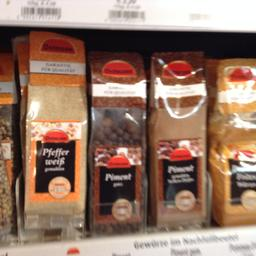spices: (22, 30, 88, 231), (148, 48, 210, 227), (88, 48, 147, 231), (212, 56, 254, 225)
